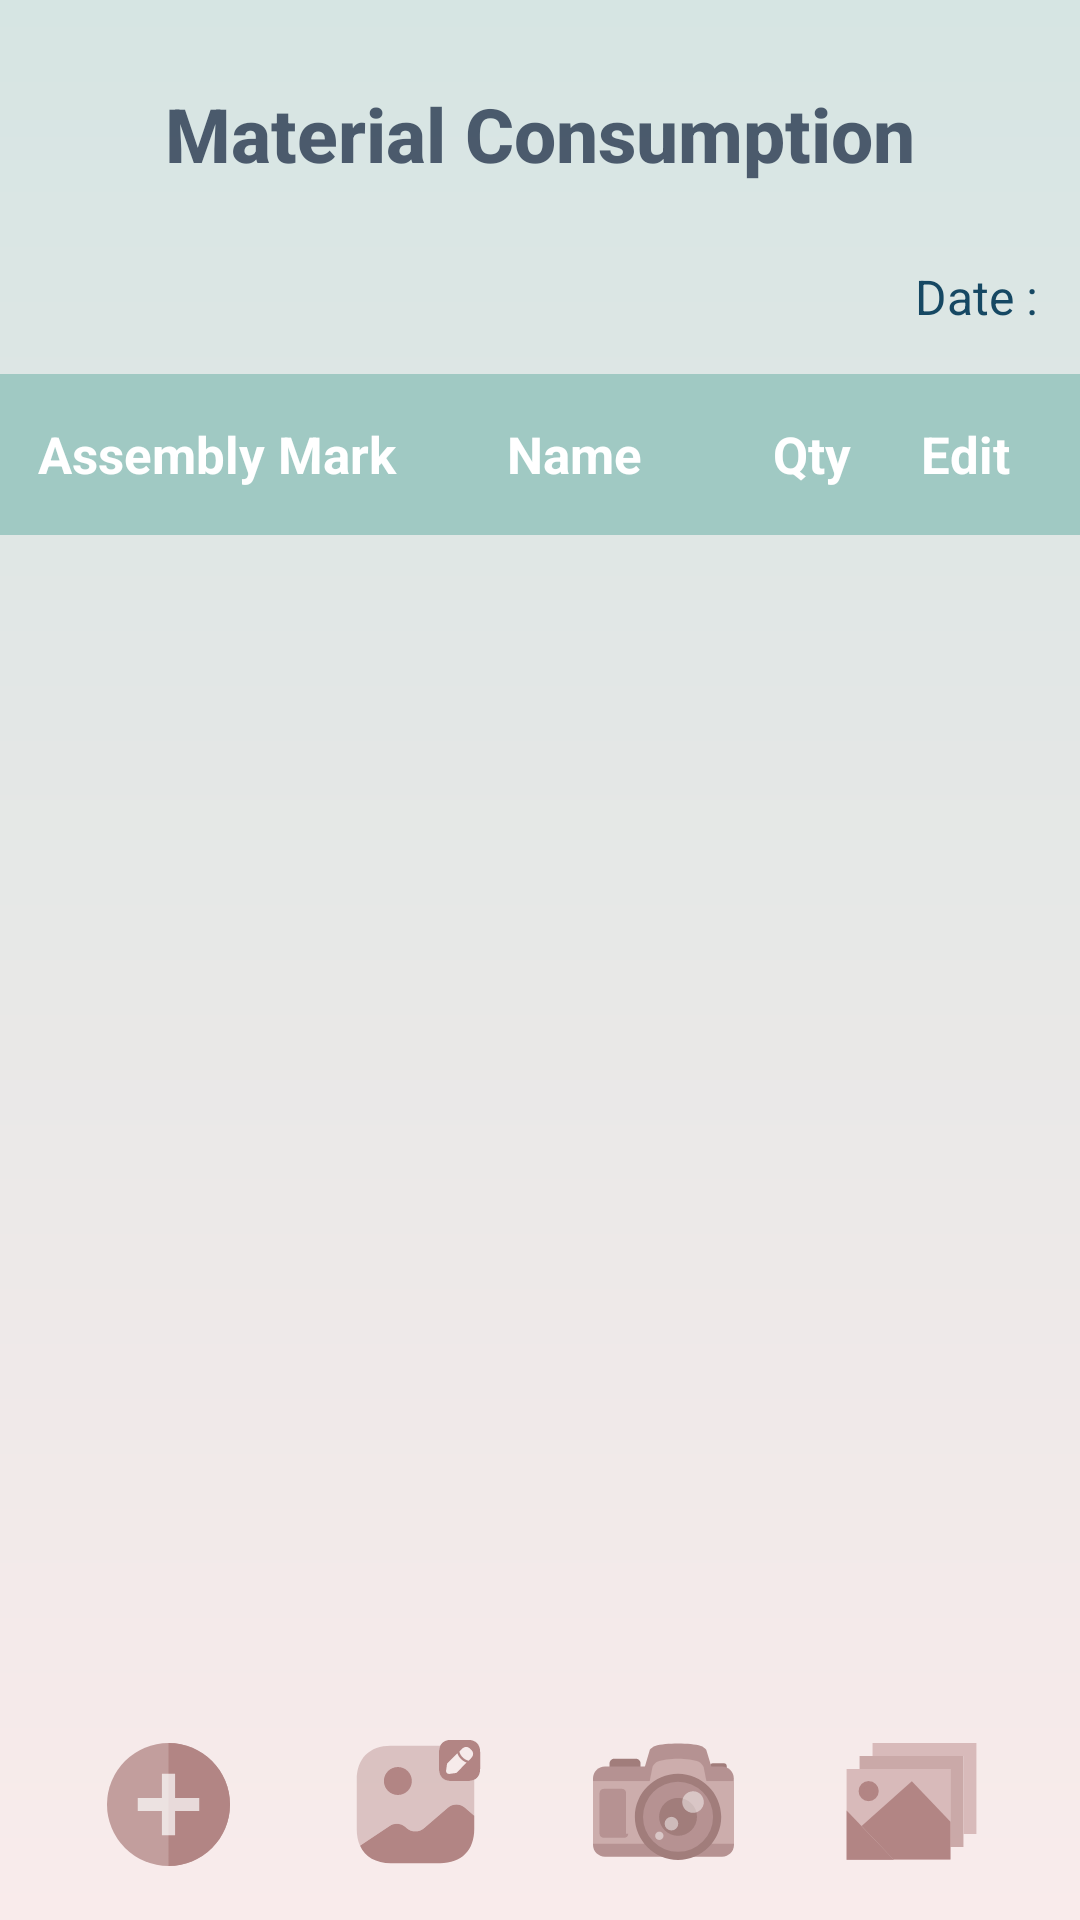

Where to tap for icons on this 1080w x 1920h app screen, as (x=x, y=y):
add: (x=168, y=1804)
camera: (x=663, y=1801)
